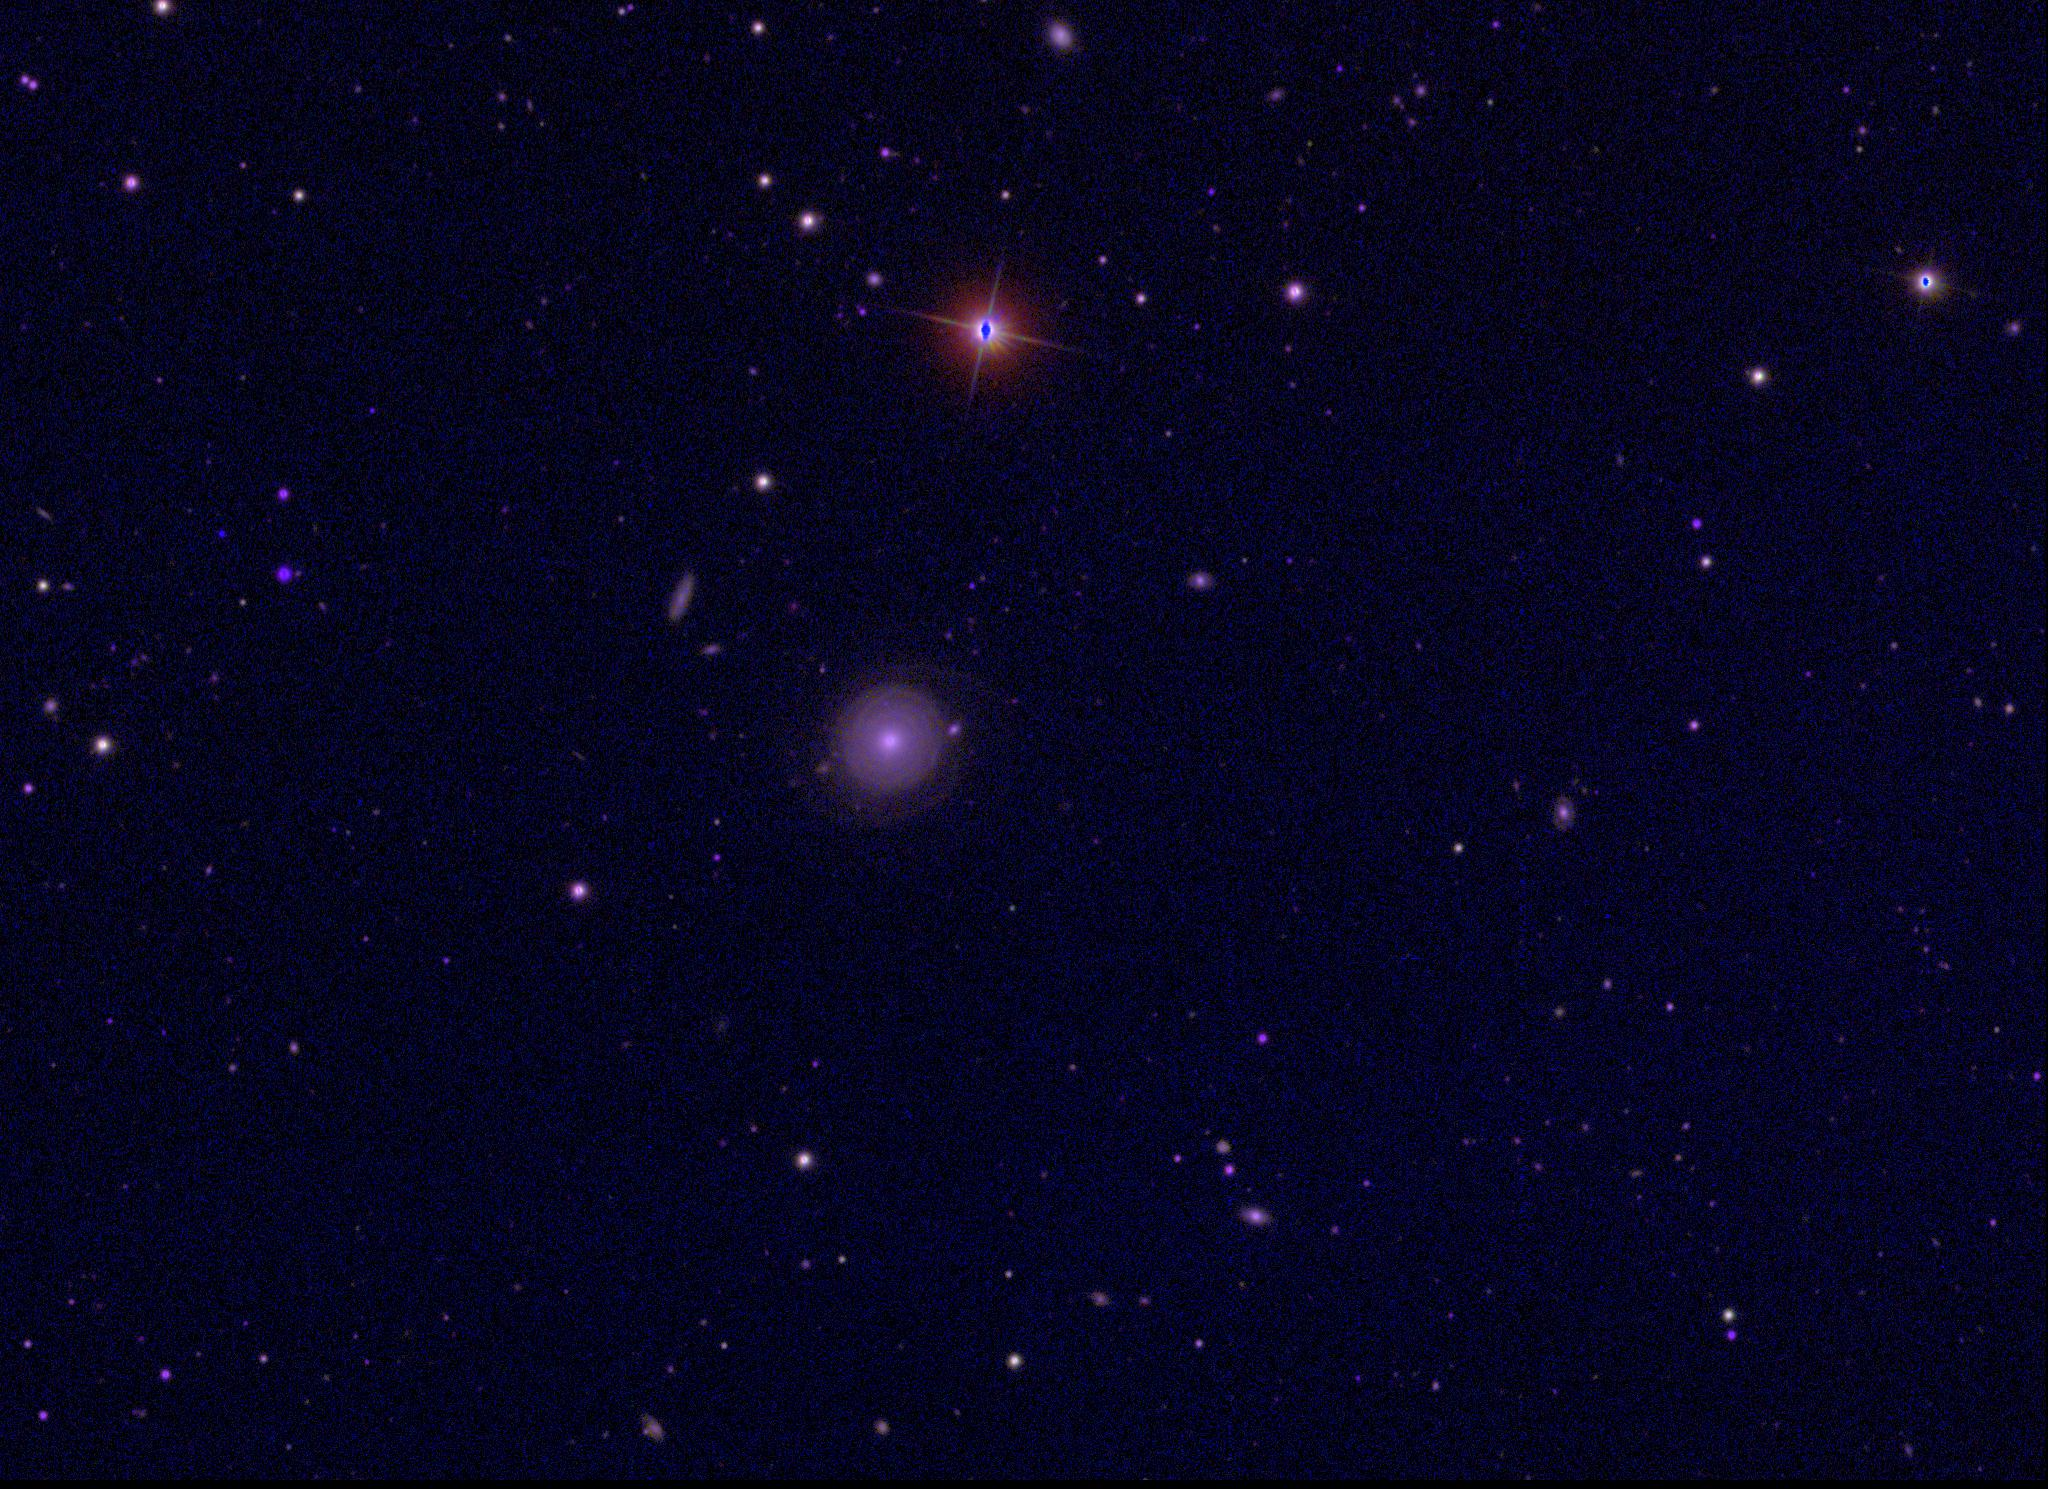L: (215, 527, 229, 541)
